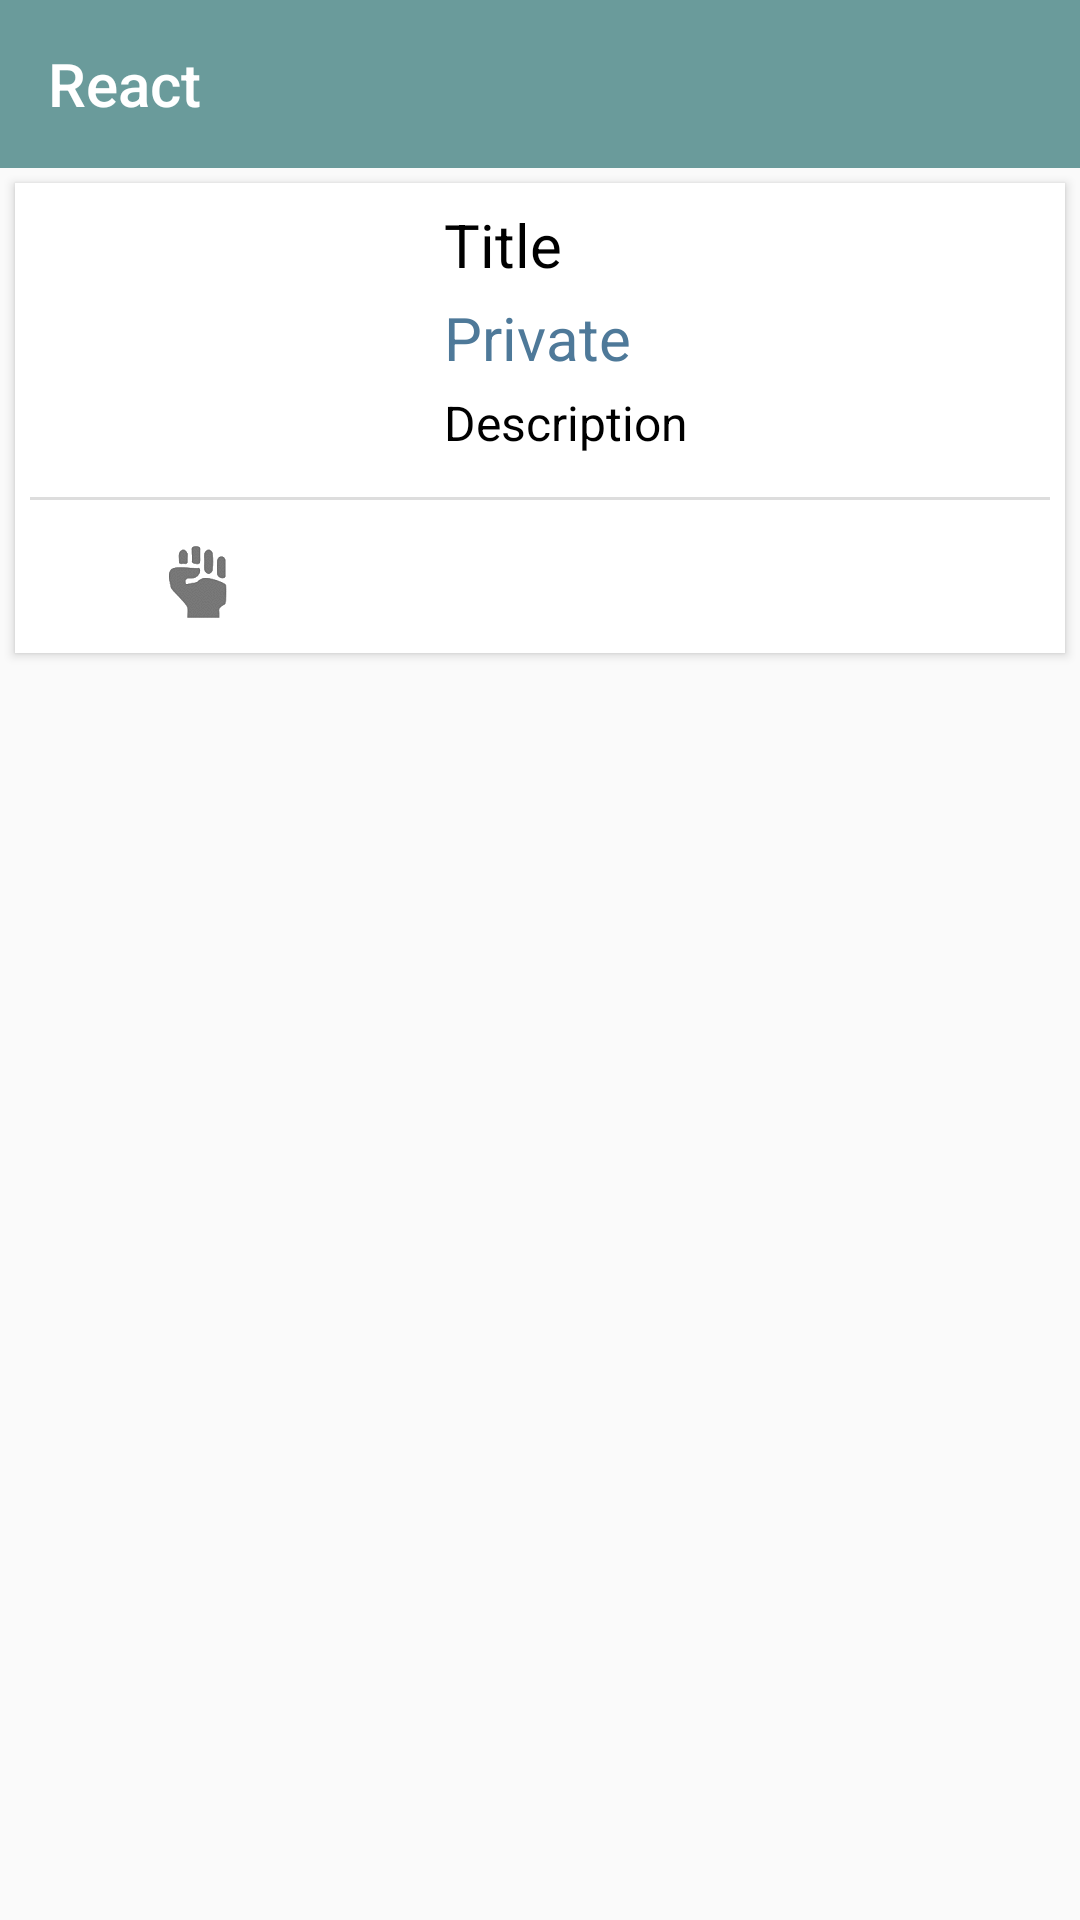

Screen size 1080w x 1920h. Icon name, then its center in pixels as (x,y):
vote: (198,582)
